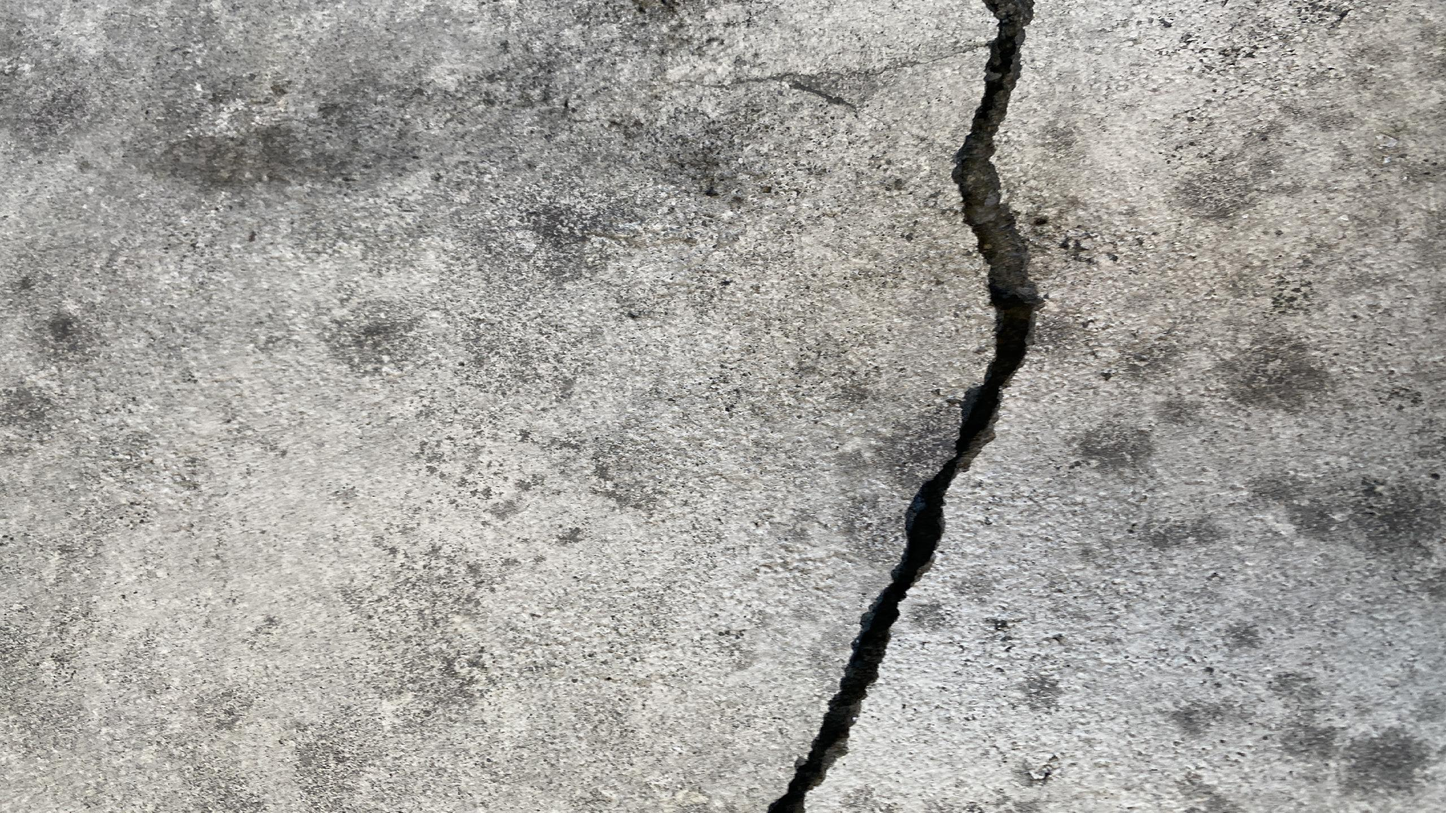crack: (764, 0, 1038, 812)
